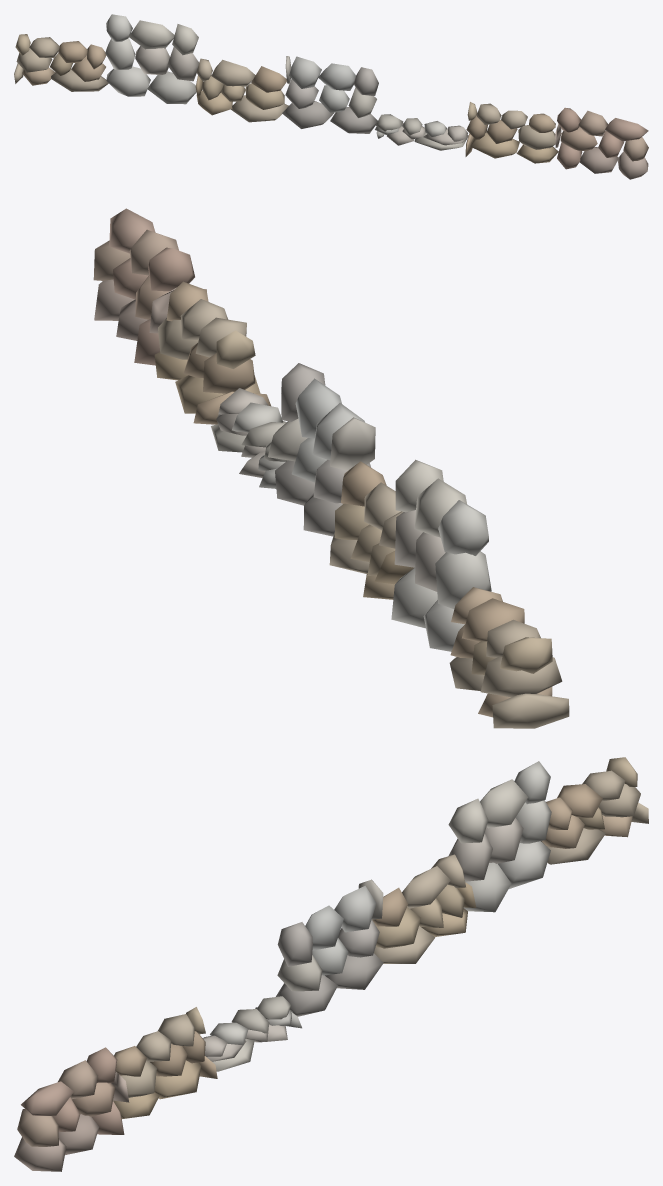
Rendered from farm_4_17_near.glb.
The picture shows the model from 3 angles, top to bottom: view 1: azimuth 30°, elevation 25°; view 2: azimuth 150°, elevation 25°; view 3: azimuth 270°, elevation 25°; orthographic projection. The views are drawn at different scales.
Parts seen in each view (by area): view 1: geometry_0; view 2: geometry_0; view 3: geometry_0.
Part boxes in pixels (bbox=[...]): geometry_0: bbox=[14, 14, 648, 179]; geometry_0: bbox=[93, 208, 569, 728]; geometry_0: bbox=[14, 757, 648, 1171].
Bounding box in the file's own units: 8.59 × 2.22 × 7.66.
